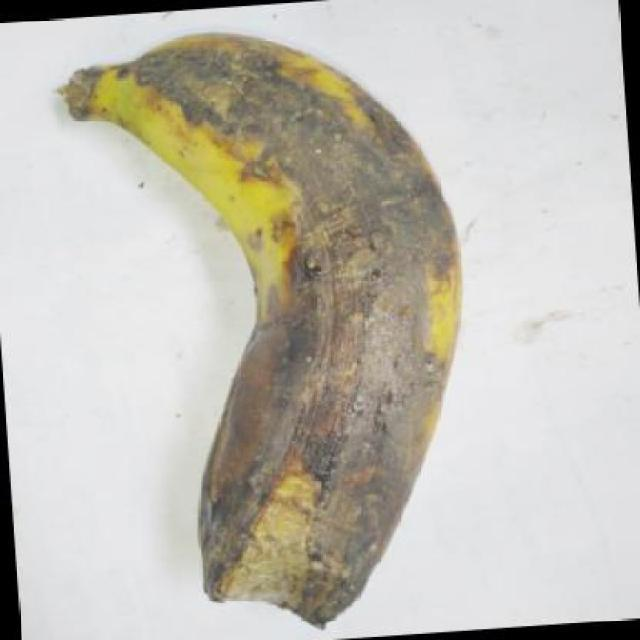rotten: (34, 8, 497, 637)
